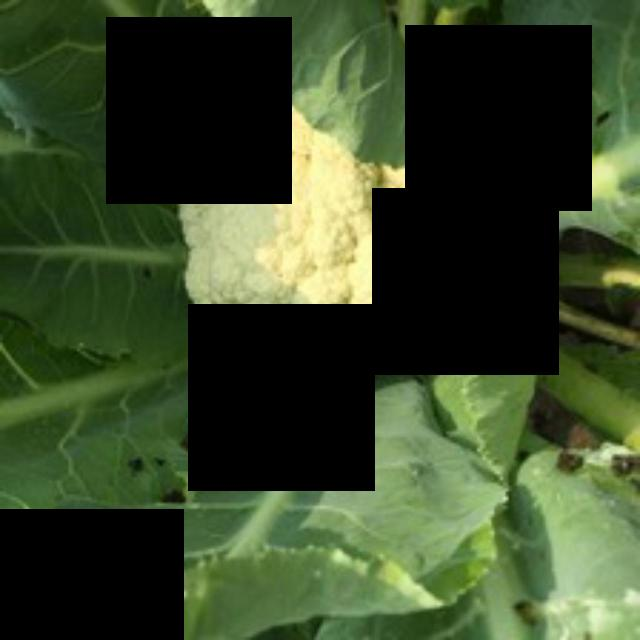cauliflower: (170, 89, 483, 388)
